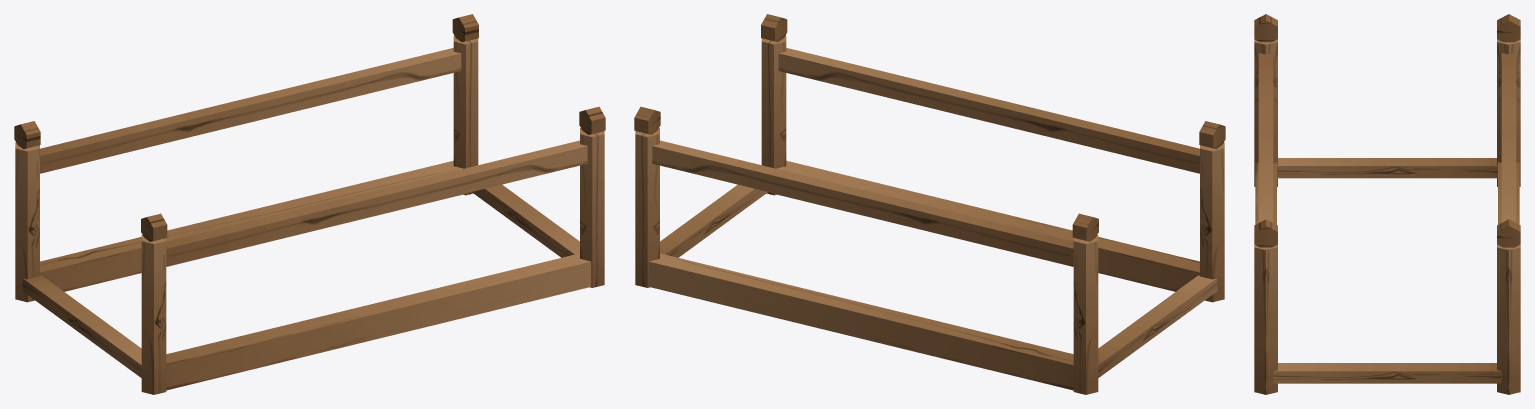
File: Bridge.fbx
3 renders of one model, left to right at view 1: azimuth 30°, elevation 25°; view 2: azimuth 150°, elevation 25°; view 3: azimuth 270°, elevation 25°, orthographic. The views are drawn at different scales.
Visible parts, largest first — view 1: BridgeSegment; view 2: BridgeSegment; view 3: BridgeSegment.
Part boxes in pixels (x1,y1,x2,y2): BridgeSegment: [14, 14, 605, 394]; BridgeSegment: [634, 14, 1225, 394]; BridgeSegment: [1254, 14, 1520, 394].
Size of the model in its own units: 4.23 by 1.51 by 2.2.
1 material, 1 textured.
